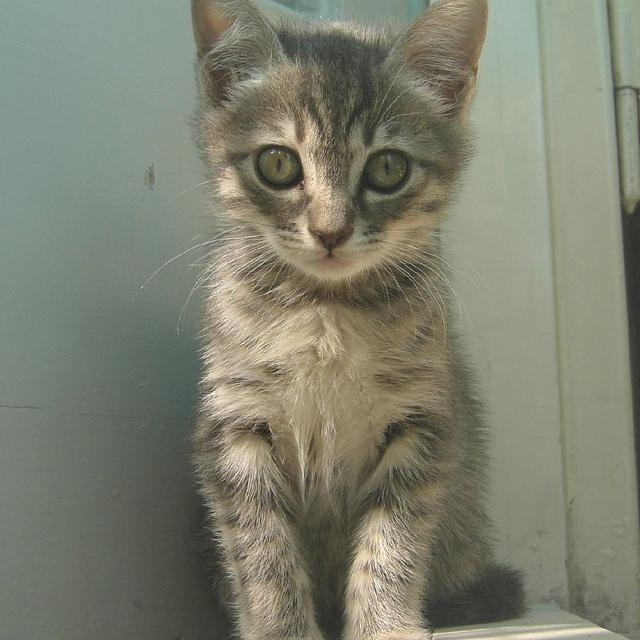animals: (201, 0, 481, 248)
